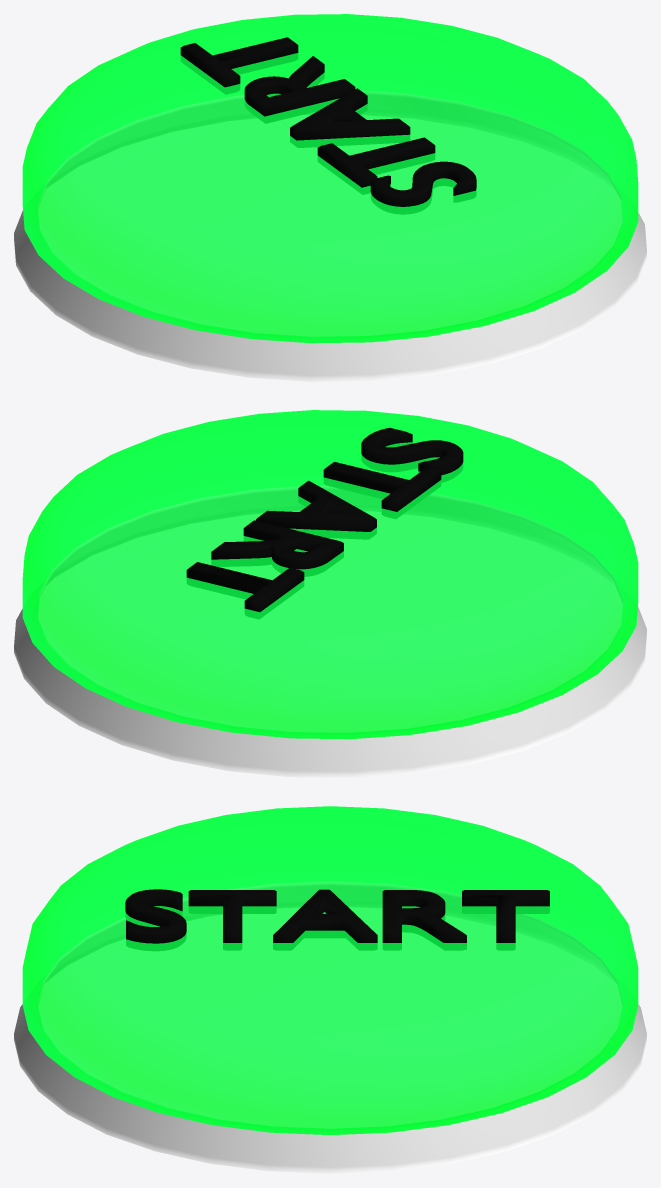
File: FlyGameStartButton.fbx
3 views of the same model, one above another, from view 1: azimuth 30°, elevation 25°; view 2: azimuth 150°, elevation 25°; view 3: azimuth 270°, elevation 25° (orthographic).
Parts seen in each view (by area): view 1: Circle; view 2: Circle; view 3: Circle.
Part boxes in pixels (x1,y1,x2,y2): Circle: (14,14,646,381); Circle: (14,410,646,777); Circle: (14,806,646,1173).
Size of the model in its own units: 17.91 by 4.12 by 17.91.
